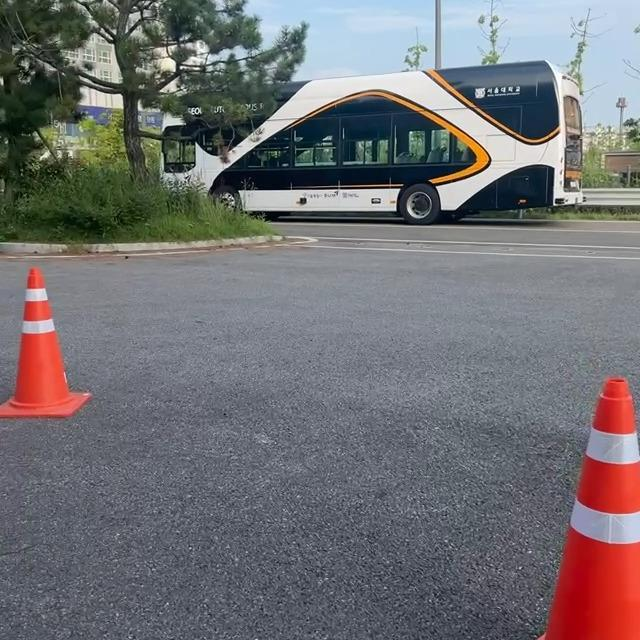fallen_object: (501, 341, 640, 640), (0, 245, 110, 457)
